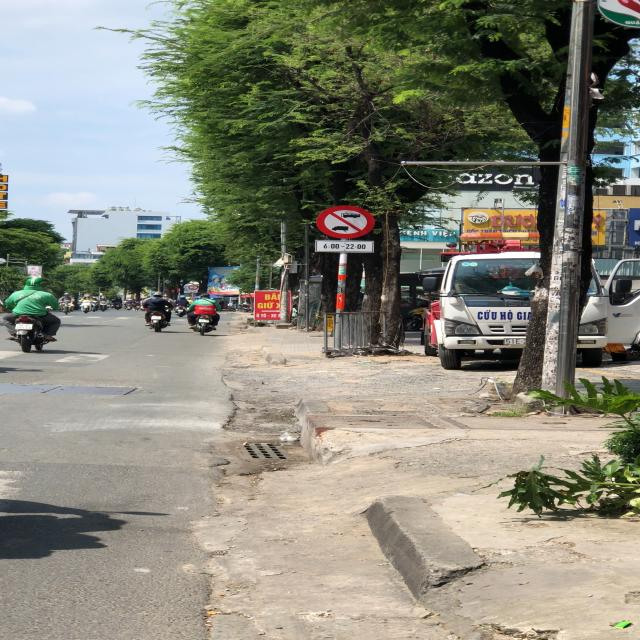Bien bao cam xe oto khach va xe oto tai: (315, 200, 382, 241)
